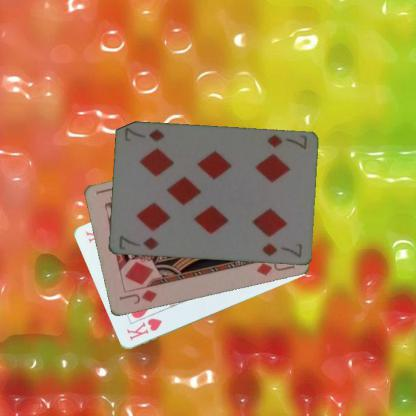7d: (264, 132, 308, 151), (116, 233, 160, 251)
Jd: (116, 287, 158, 306)
Kh: (124, 316, 163, 342)
